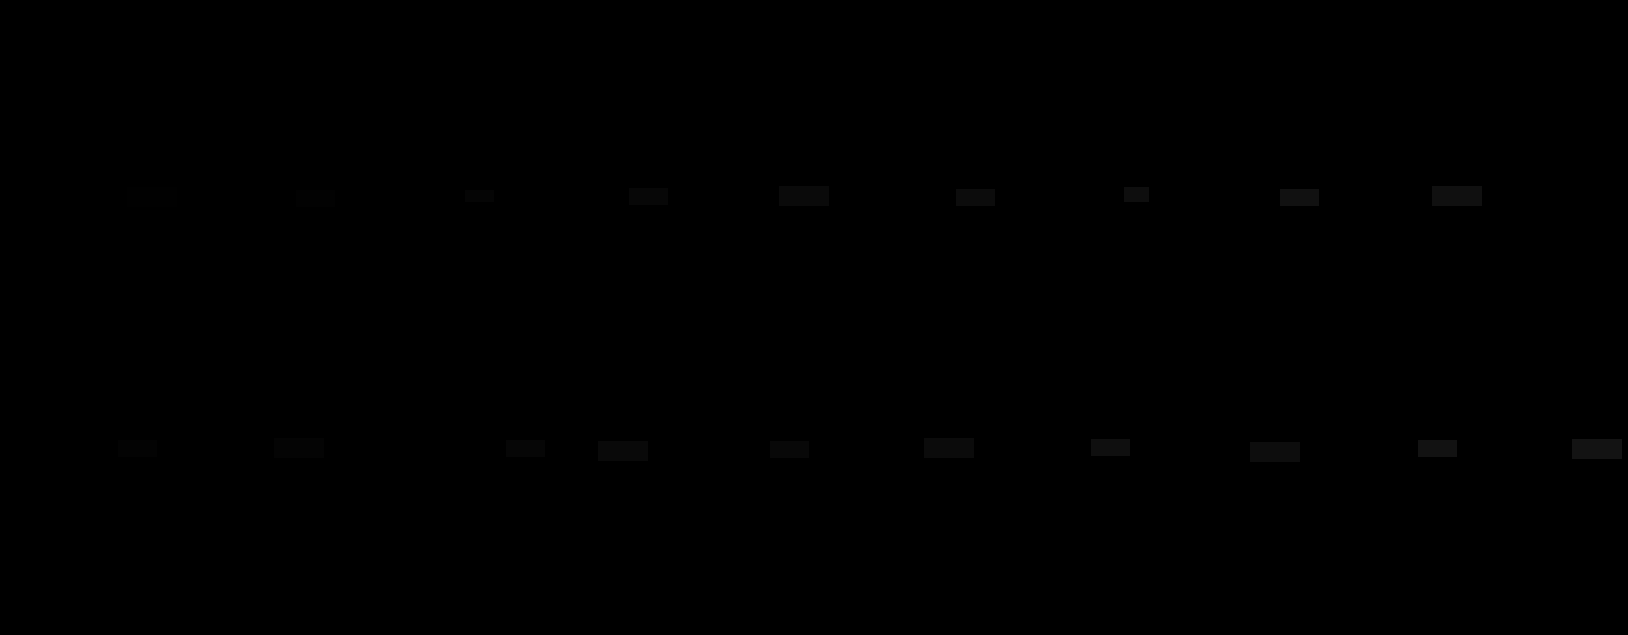light: (127, 187, 177, 208), (779, 186, 829, 206), (1432, 186, 1482, 206), (274, 438, 324, 458), (598, 441, 648, 461), (924, 438, 974, 458), (1250, 442, 1300, 462), (1572, 439, 1622, 459), (296, 190, 335, 208), (629, 188, 668, 205), (956, 189, 995, 206), (1280, 189, 1319, 206), (506, 440, 545, 457), (118, 440, 157, 457), (770, 441, 809, 458), (1091, 439, 1130, 455), (1418, 440, 1457, 457), (1124, 187, 1149, 202), (465, 190, 494, 202)
